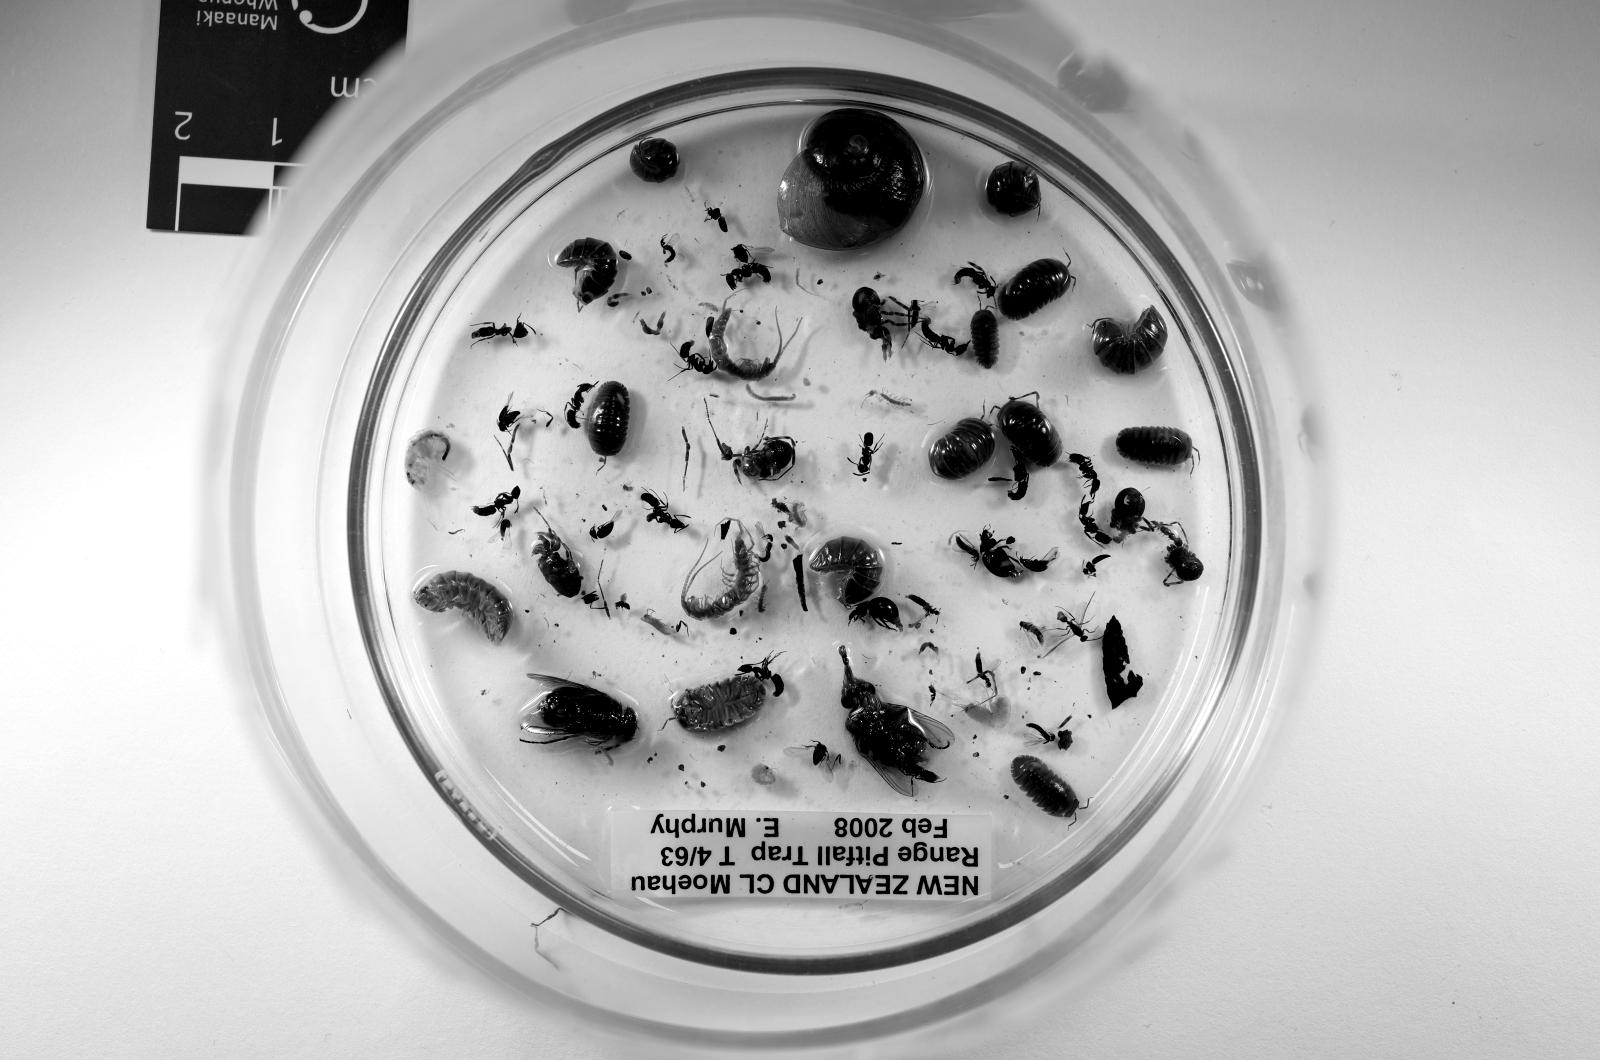amphipoda: (403, 428, 451, 491), (963, 696, 1012, 730), (750, 764, 778, 786)
chilopoda: (681, 522, 759, 618), (706, 302, 788, 382), (869, 392, 913, 407)
coleoptera: (982, 528, 1022, 577), (850, 596, 903, 631), (972, 652, 997, 692), (1018, 547, 1056, 571), (950, 535, 978, 565), (906, 593, 940, 618), (731, 245, 775, 264), (497, 401, 522, 432), (1081, 552, 1109, 577), (1025, 724, 1056, 745), (1018, 621, 1044, 646), (588, 522, 616, 541), (660, 237, 678, 264), (812, 742, 828, 767), (909, 302, 922, 329)
collembola: (641, 612, 678, 636)
diptera: (841, 646, 953, 799), (522, 674, 637, 755), (616, 600, 631, 608)
formicidae: (738, 652, 784, 696), (641, 491, 687, 531), (922, 319, 969, 357), (953, 260, 997, 298), (472, 317, 535, 342), (565, 382, 597, 428), (1069, 453, 1100, 500), (678, 338, 715, 376), (1078, 500, 1109, 547), (472, 487, 522, 516), (853, 432, 881, 481), (725, 260, 772, 289), (1006, 447, 1028, 500), (1056, 612, 1088, 642)
gastropoda: (778, 109, 925, 248)
isopoda: (415, 571, 512, 642), (672, 674, 765, 733), (809, 537, 885, 606), (1090, 308, 1168, 373), (997, 258, 1075, 319), (997, 397, 1062, 468), (556, 237, 618, 310), (1012, 755, 1078, 816), (928, 419, 993, 478), (584, 382, 631, 463), (1115, 426, 1197, 466), (987, 161, 1041, 218), (631, 137, 678, 183), (969, 308, 1000, 369)
opiliones: (531, 528, 584, 596), (853, 286, 890, 360), (734, 438, 797, 481), (1109, 487, 1147, 543), (1162, 543, 1203, 587)
